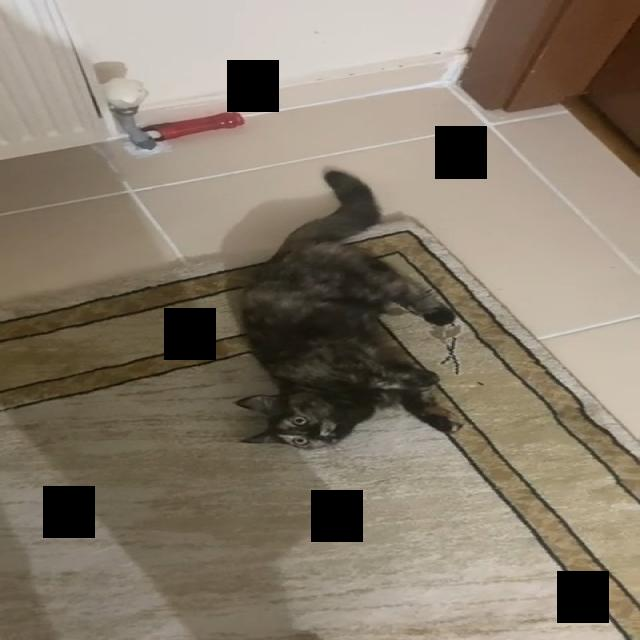authorized: (230, 168, 462, 449)
